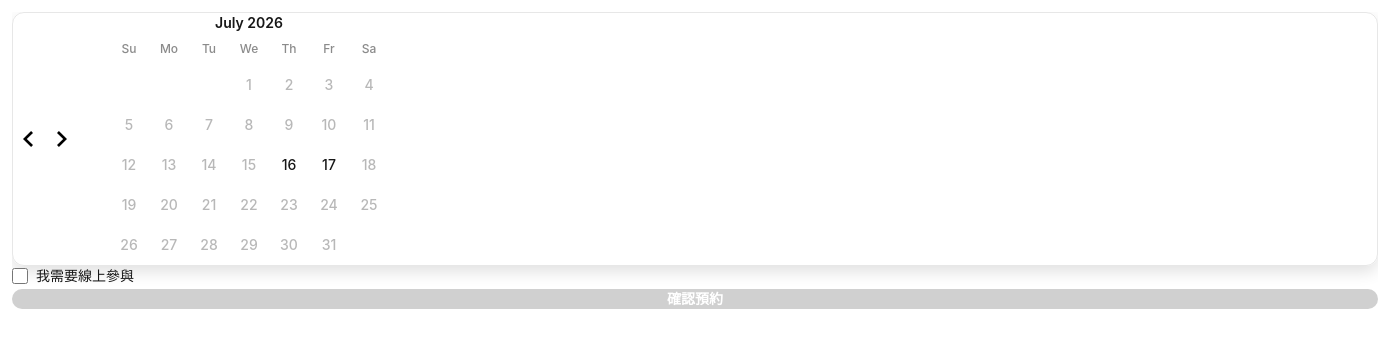
Scenario: BookingForm › updates available slots, clears the selection, and shows a conflict message on a slot_taken 409
Click the button "16" at [289, 165], box x1=269 y1=145 x2=309 y2=185
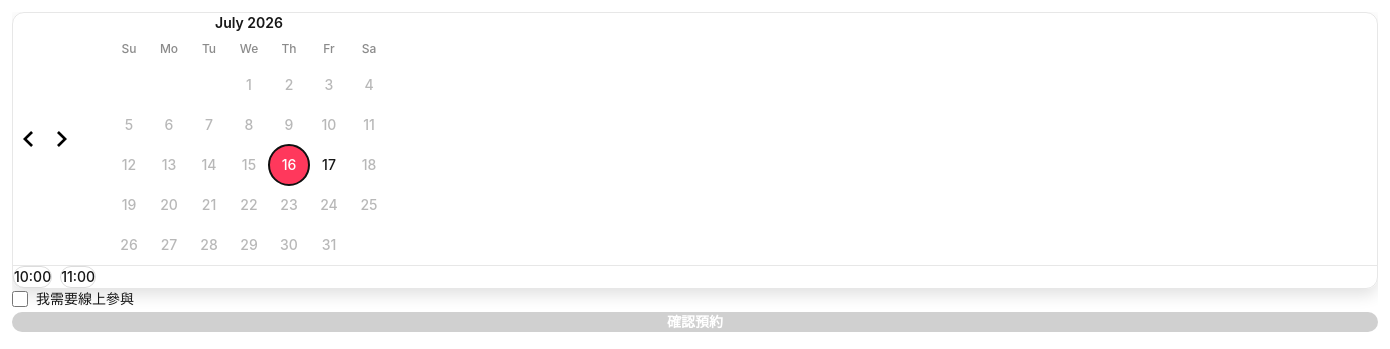
Click the button "10:00" at [33, 277], box x1=13 y1=266 x2=52 y2=288
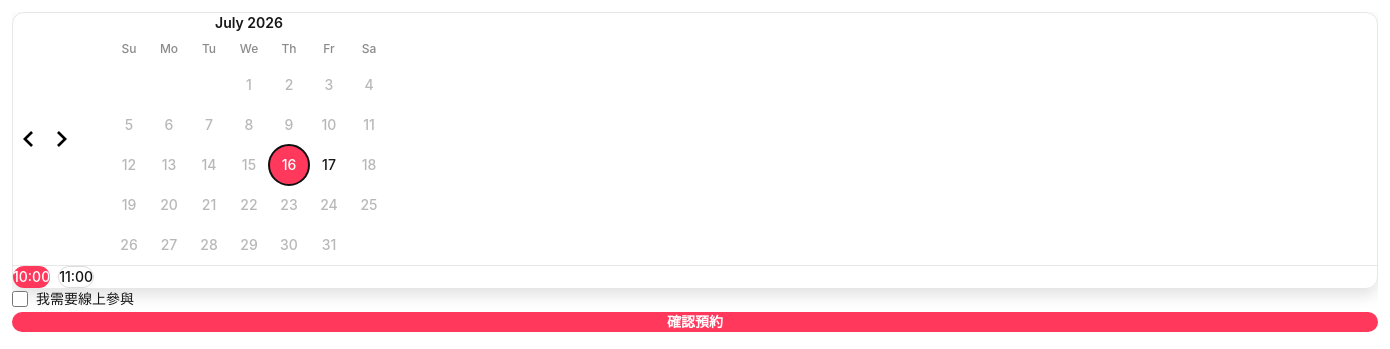
Click the button "確認預約" at [695, 322], box x1=12 y1=312 x2=1378 y2=332
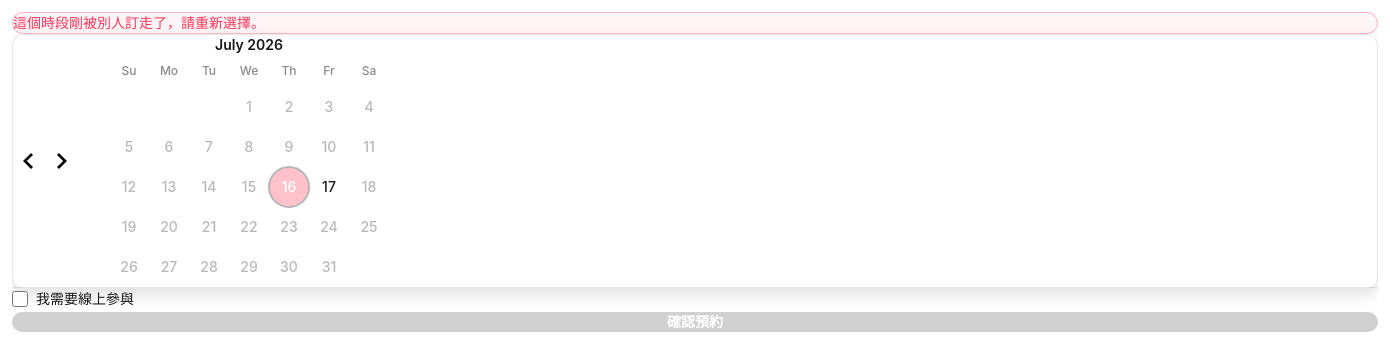
Result: the text "這個時段剛被別人訂走了，請重新選擇。" is shown at x1=12 y1=12 x2=1378 y2=34
Result: the button "確認預約" is disabled at x1=12 y1=312 x2=1378 y2=332
Result: the button "10:00" is gone
